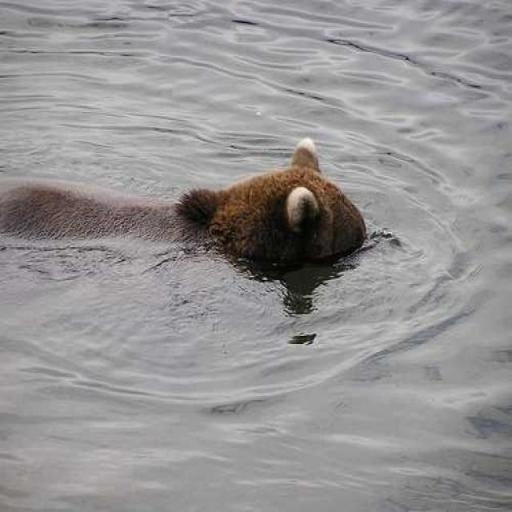Bear: (0, 137, 366, 265)
